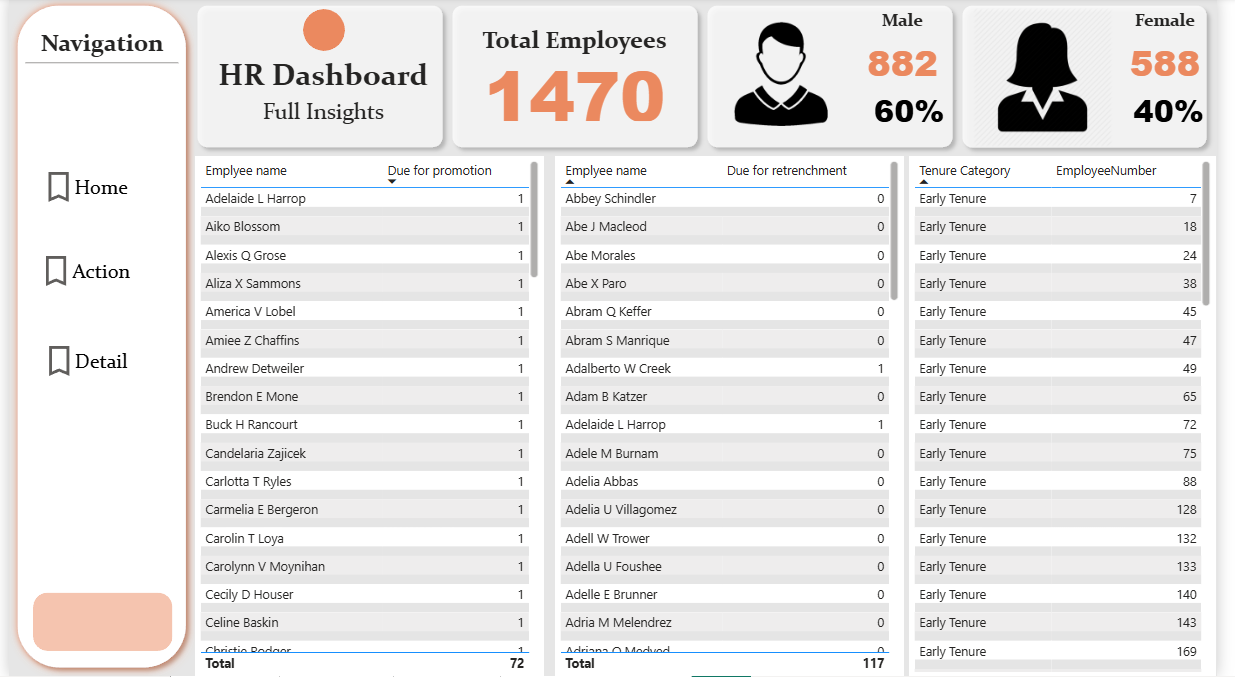

This screenshot's page, from the dashboard's own definition file:
{"tool":"powerbi","page":{"name":"Action","canvas":[1280,720],"ordinal":1},"visuals":[{"type":"shape","box":[0,0,196.5,720],"z":0},{"type":"shape","box":[190.9,0,277.8,168.2],"z":1000},{"type":"shape","box":[461.1,0,277.8,168.2],"z":2000},{"type":"shape","box":[731.3,0,277.8,168.2],"z":3000},{"type":"shape","box":[1002.1,0,276.8,168.6],"z":4000},{"type":"textbox","box":[197.2,57.3,272,55.7],"z":5000},{"type":"textbox","box":[197.2,101.8,272,55.7],"z":6000},{"type":"shape","box":[311.8,12.7,44.5,44.5],"z":7000},{"type":"card","title":"Total Employees","fields":{"Values":["New Measures.Total Emp"]},"box":[493.1,30.2,213.1,106.6],"z":8000},{"type":"card","title":"Male","fields":{"Values":["New Measures.Male"]},"box":[892.3,12.7,109.8,89.1],"z":9000},{"type":"card","title":"Male","fields":{"Values":["New Measures.% Male"]},"box":[903.5,89.1,101.8,62],"z":10000},{"type":"card","title":"Female","fields":{"Values":["New Measures.Female"]},"box":[1170.7,12.7,109.8,89.1],"z":11000},{"type":"card","title":"Male","fields":{"Values":["New Measures.% Female"]},"box":[1178.6,89.1,101.8,62],"z":12000},{"type":"image","box":[1002.1,11.1,187.7,147.9],"z":13000},{"type":"image","box":[746,25.4,146.3,111.3],"z":14000},{"type":"tableEx","fields":{"Values":["HR Analytics Data.Emplyee name","New Measures.Due for promotion"]},"box":[197.2,168.6,369,551.9],"z":15000},{"type":"tableEx","fields":{"Values":["HR Analytics Data.Emplyee name","New Measures.Will be retrenched"]},"box":[579,168.6,369,551.9],"z":16000},{"type":"actionButton","title":"Home","box":[0,163.8,162.2,74.8],"z":16001},{"type":"actionButton","title":"Home","box":[0,252.9,162.2,74.8],"z":16002},{"type":"actionButton","title":"Home","box":[0,348.3,162.2,74.8],"z":16003},{"type":"actionButton","title":"Navigation","box":[17.5,33.4,162.2,79.5],"z":16004},{"type":"shape","box":[25.4,631.5,147.9,62],"z":16005},{"type":"tableEx","fields":{"Values":["HR Analytics Data.Tenure Category","HR Analytics Data.EmployeeNumber"]},"box":[954.4,168.6,324.5,551.9],"z":16006}]}

Visuals, with their boxes in screenshot pixels (x1, y1, x2, y2), scaled from the page's 1280x720 canvas onto the 1235x677 screenshot:
shape: BBox(0, 0, 190, 676)
shape: BBox(184, 0, 452, 158)
shape: BBox(445, 0, 713, 158)
shape: BBox(706, 0, 974, 158)
shape: BBox(967, 0, 1234, 159)
textbox: BBox(190, 54, 453, 106)
textbox: BBox(190, 96, 453, 148)
shape: BBox(301, 12, 344, 54)
"Total Employees" card: BBox(476, 28, 681, 129)
"Male" card: BBox(861, 12, 967, 96)
"Male" card: BBox(872, 84, 970, 142)
"Female" card: BBox(1130, 12, 1234, 96)
"Male" card: BBox(1137, 84, 1234, 142)
image: BBox(967, 10, 1148, 150)
image: BBox(720, 24, 861, 129)
tableEx - HR Analytics Data.Emplyee name x New Measures.Due for promotion: BBox(190, 159, 546, 676)
tableEx - HR Analytics Data.Emplyee name x New Measures.Will be retrenched: BBox(559, 159, 915, 676)
"Home" actionButton: BBox(0, 154, 156, 224)
"Home" actionButton: BBox(0, 238, 156, 308)
"Home" actionButton: BBox(0, 327, 156, 398)
"Navigation" actionButton: BBox(17, 31, 173, 106)
shape: BBox(25, 594, 167, 652)
tableEx - HR Analytics Data.Tenure Category x HR Analytics Data.EmployeeNumber: BBox(921, 159, 1234, 676)
